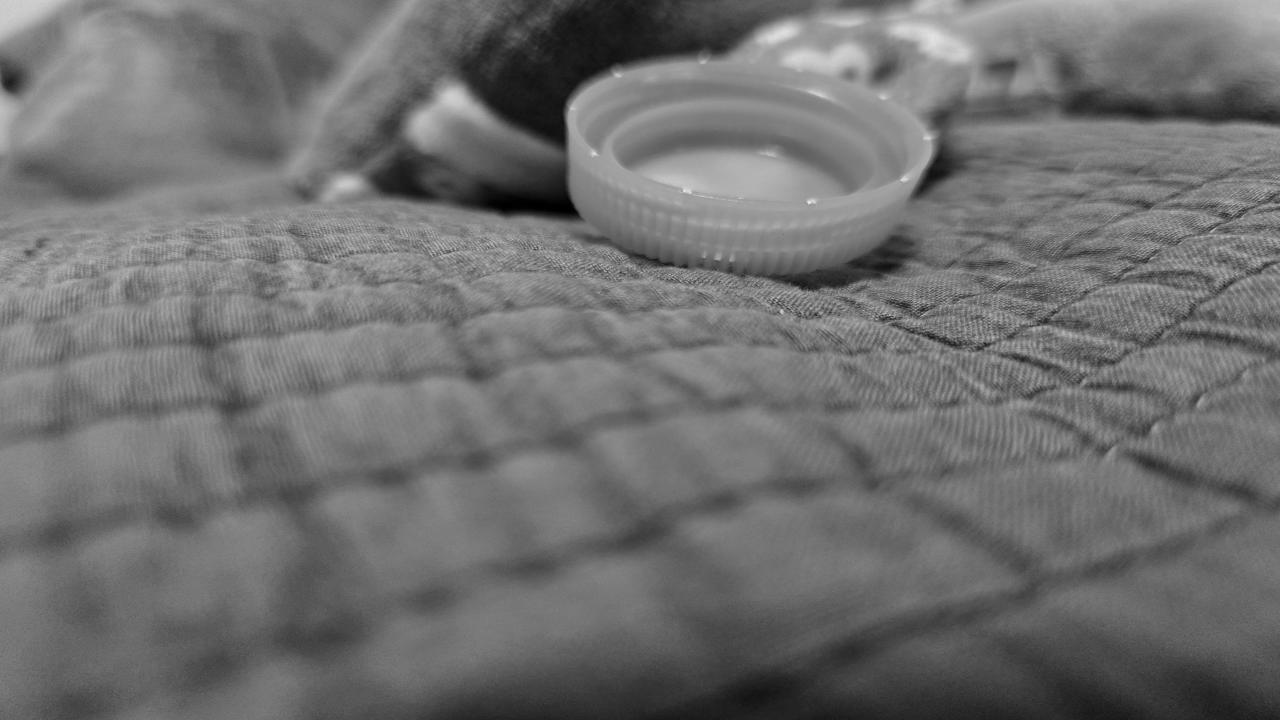bottle_cap: (573, 60, 933, 271)
